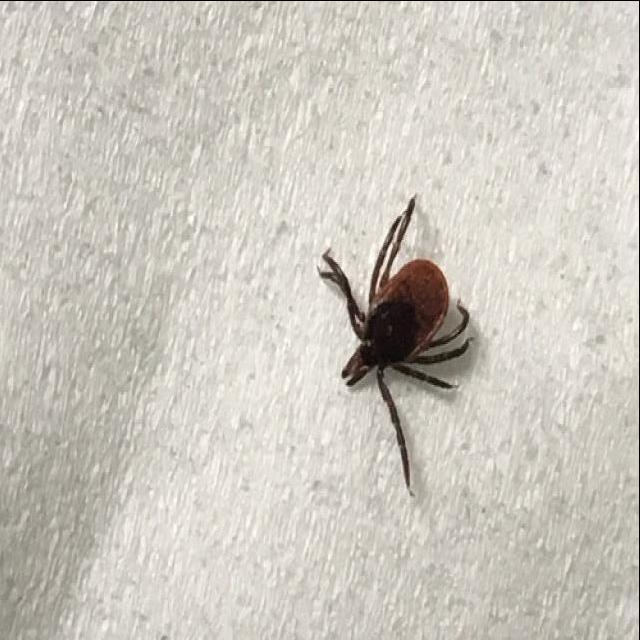Ixodes Ricinus-F: (319, 195, 474, 493)
